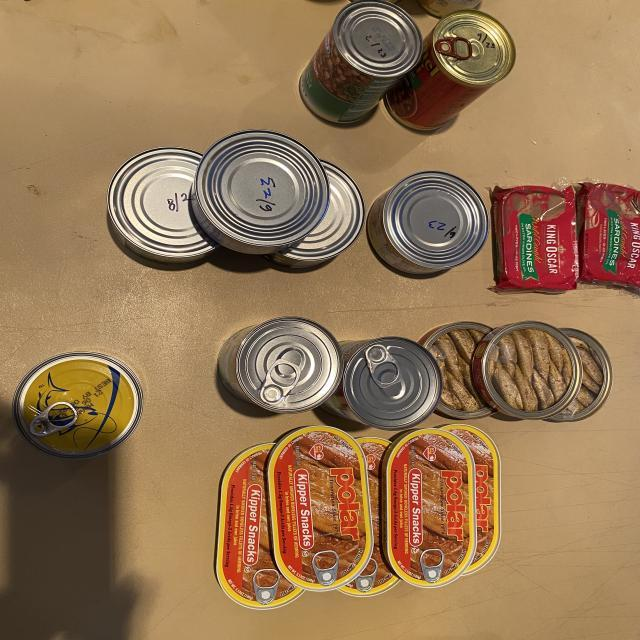Canned Fish: (267, 426, 373, 591), (192, 130, 329, 254), (383, 429, 477, 588), (216, 444, 303, 609), (13, 352, 143, 459), (107, 148, 219, 264), (367, 171, 488, 274), (471, 321, 582, 419), (267, 160, 365, 268), (340, 438, 399, 598), (491, 186, 578, 292), (441, 424, 501, 575), (418, 321, 494, 419), (576, 182, 640, 288), (550, 328, 612, 421)
Canned Food: (385, 10, 516, 130), (300, 0, 422, 122), (218, 316, 343, 414), (323, 336, 442, 430)
